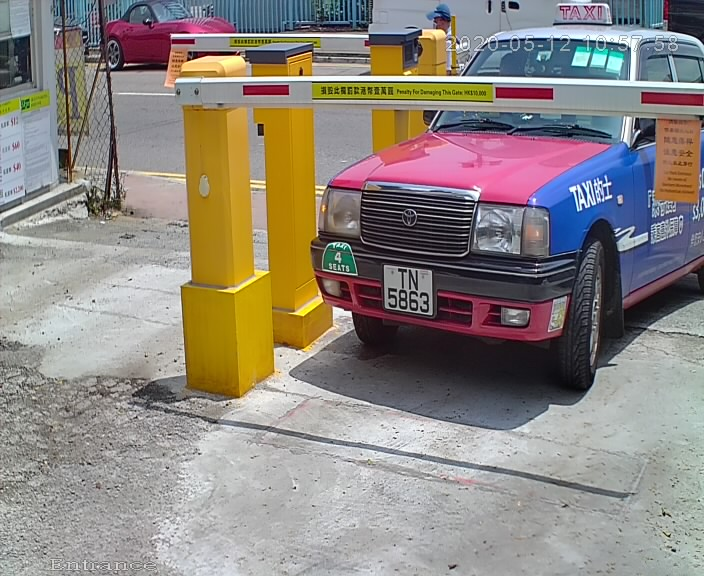taxi: (286, 2, 700, 401)
taxi_mark: (314, 236, 367, 286)
